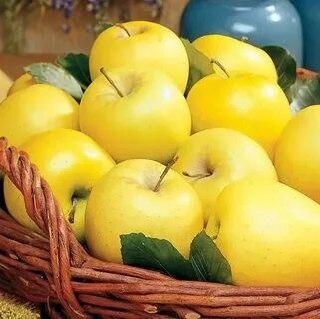Apple: (78, 68, 191, 161), (189, 70, 293, 138)
